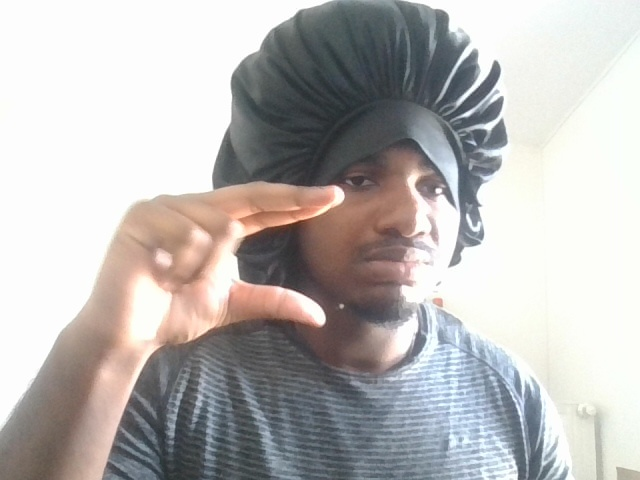No: (62, 154, 352, 361)
